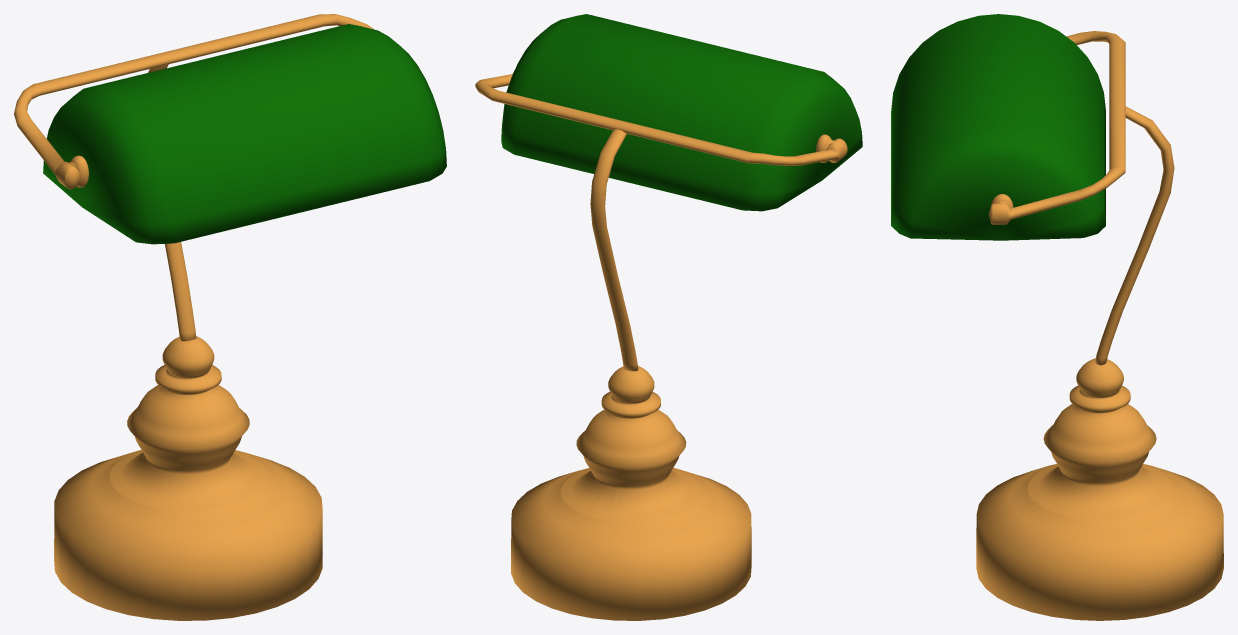
Rendered from table_lamp.fbx.
3 renders of one model, left to right at view 1: azimuth 30°, elevation 25°; view 2: azimuth 150°, elevation 25°; view 3: azimuth 270°, elevation 25°, orthographic. The views are drawn at different scales.
Parts seen in each view (by area): view 1: лампа; view 2: лампа; view 3: лампа.
Boxes of the visible parts, x1,y1,x2,y2 form: лампа: (14,14,446,620); лампа: (475,14,862,620); лампа: (891,14,1223,620).
Bounding box in the file's own units: 23.69 × 33.59 × 20.37.
